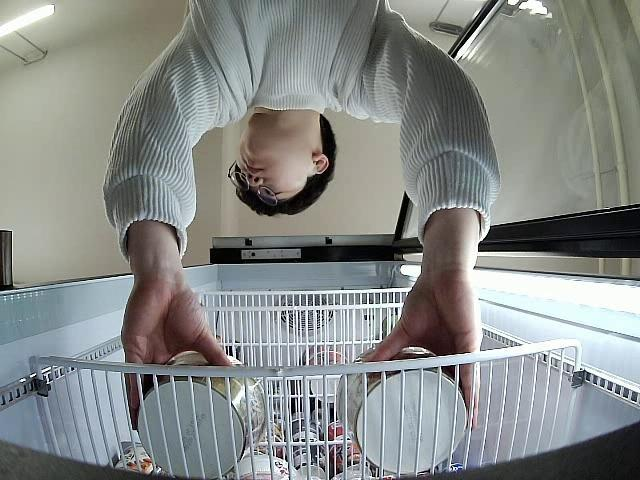03_chapagetti_L: (334, 344, 468, 476), (136, 352, 265, 480)
